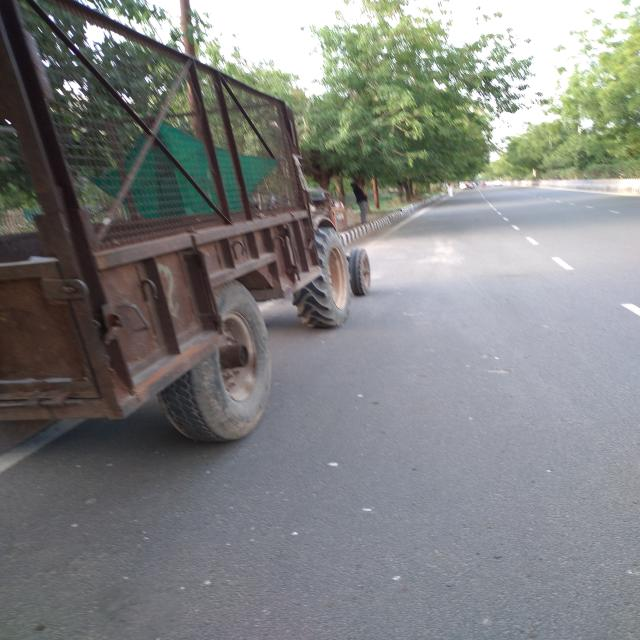tractor: (0, 13, 409, 442)
